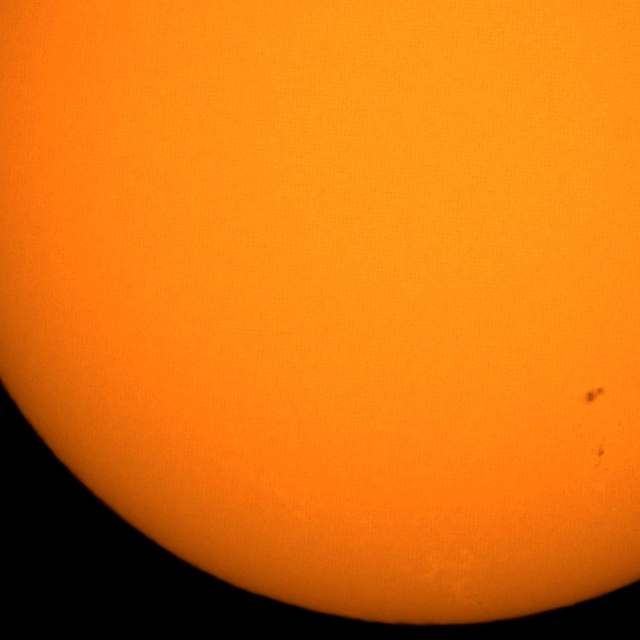sunspot: (584, 386, 606, 405), (593, 447, 606, 470), (596, 447, 606, 458)
